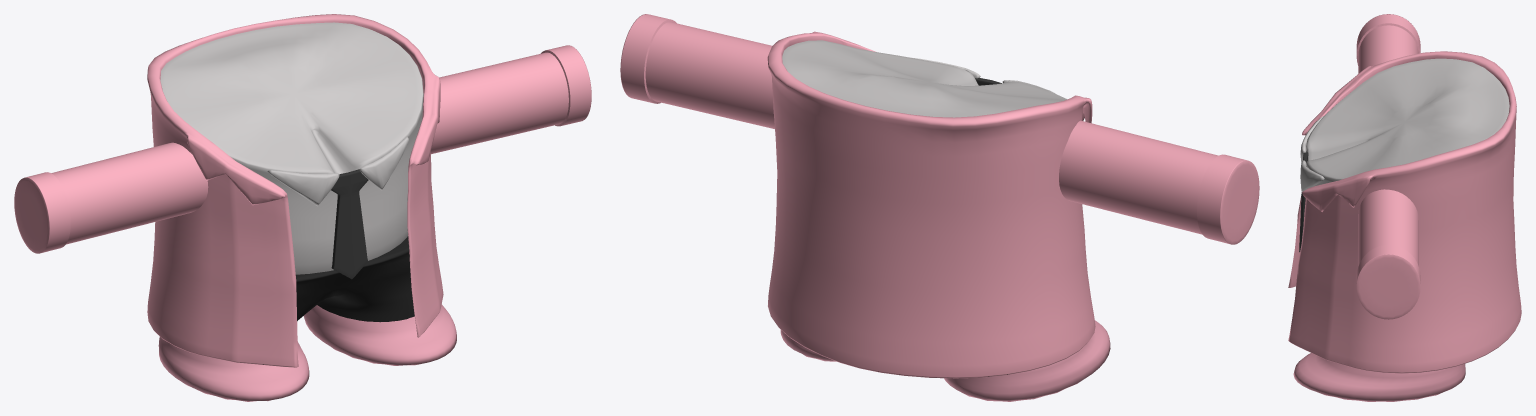
The model's file is long-vest.glb.
3 views of the same model, side by side, from view 1: azimuth 30°, elevation 25°; view 2: azimuth 150°, elevation 25°; view 3: azimuth 270°, elevation 25° (orthographic). The views are drawn at different scales.
Visible parts, largest first — view 1: AO_VEST_DAI (×4); view 2: AO_VEST_DAI (×3); view 3: AO_VEST_DAI (×4).
Part boxes in pixels (x1,y1,x2,y2): AO_VEST_DAI (×4): (14,14,591,401); AO_VEST_DAI (×3): (620,14,1259,401); AO_VEST_DAI (×4): (1288,14,1521,401).
Bounding box in the file's own units: 1.04 × 0.4943 × 0.4243.
4 materials, 4 textured.
